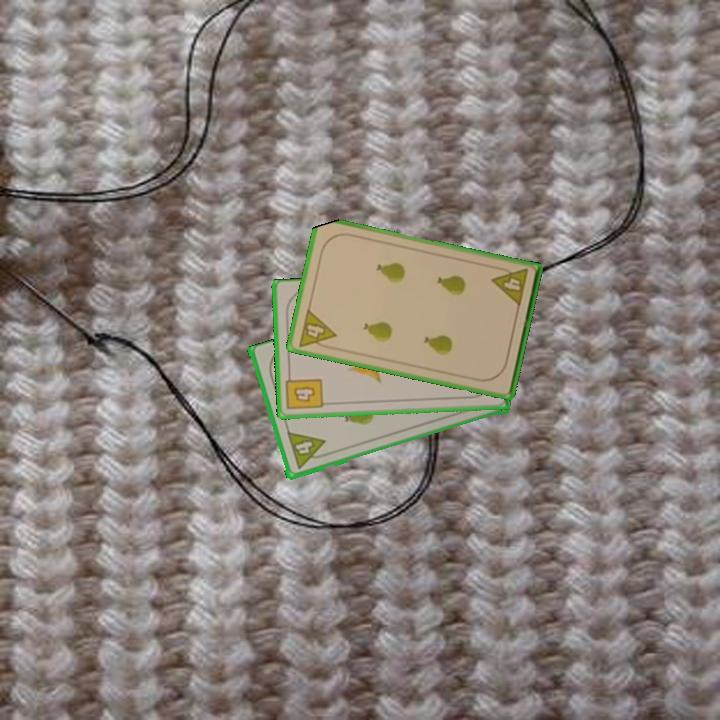4b: (283, 370, 326, 412)
4p: (295, 305, 339, 353), (284, 429, 331, 473), (489, 263, 531, 309)
